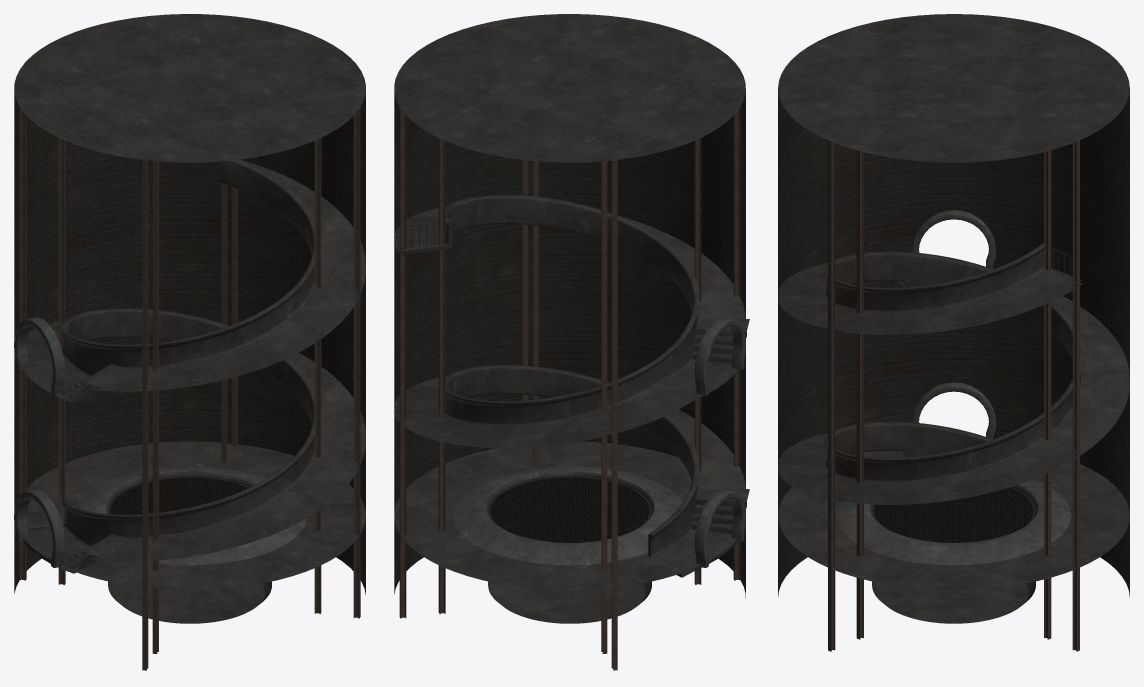
Rendered from bunker_shaft_1.fbx.
3 views of the same model, side by side, from view 1: azimuth 30°, elevation 25°; view 2: azimuth 150°, elevation 25°; view 3: azimuth 270°, elevation 25° (orthographic).
Parts seen in each view (by area): view 1: bunker_shaft_1; view 2: bunker_shaft_1; view 3: bunker_shaft_1.
Boxes of the visible parts, x1,y1,x2,y2 form: bunker_shaft_1: [14, 14, 365, 670]; bunker_shaft_1: [394, 14, 749, 670]; bunker_shaft_1: [778, 14, 1129, 651].
Bounding box in the file's own units: 15.15 × 15 × 24.
